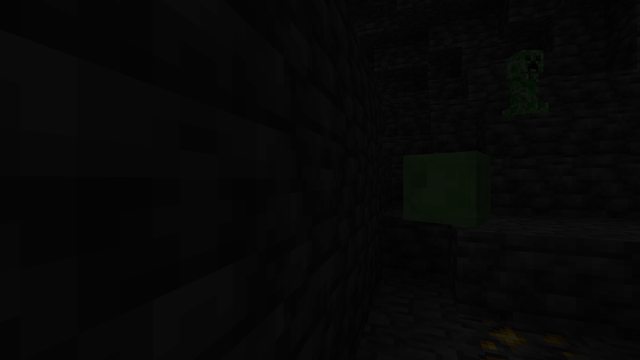creepers: (505, 43, 545, 108)
slimes: (412, 148, 495, 226)
